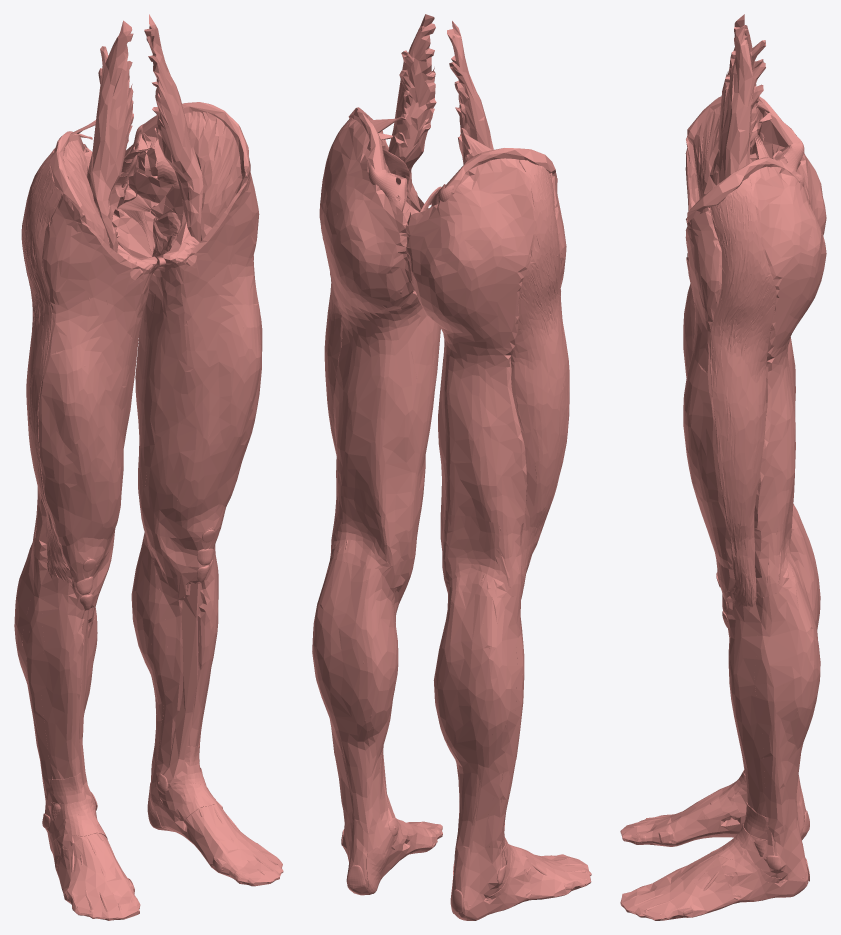
File: lower.glb
3 views of the same model, side by side, from view 1: azimuth 30°, elevation 25°; view 2: azimuth 150°, elevation 25°; view 3: azimuth 270°, elevation 25° (orthographic). The views are drawn at different scales.
Parts seen in each view (by area): view 1: Fascia lata.l, Fascia lata.r, Crural fascia.r, Crural fascia.l, Iliotibial tract.r, Psoas major.r, Psoas major.l, Iliacus muscle.l, Tibia.l, Hip bone.l, Gluteus maximus muscle.l, Iliacus muscle.r (+8 smaller); view 2: Fascia lata.r, Fascia lata.l, Crural fascia.r, Crural fascia.l, Iliotibial tract.r, Psoas major.l, Popliteal fascia.r, Popliteal fascia.l, Psoas major.r, Iliotibial tract.l, Hip bone.r, Hip bone.l (+2 smaller); view 3: Fascia lata.l, Crural fascia.l, Iliotibial tract.l, Crural fascia.r, Psoas major.l, Fascia lata.r, Iliacus muscle.r, Hip bone.r, Hip bone.l, Psoas major.r, Superior fibular retinaculum.l, Popliteal fascia.l (+3 smaller).
Part boxes in pixels (box(x1,y1,x2,y2)): Fascia lata.l: box(109, 144, 262, 542); Fascia lata.r: box(21, 148, 158, 573); Crural fascia.r: box(14, 543, 140, 920); Crural fascia.l: box(131, 517, 283, 886); Iliotibial tract.r: box(21, 151, 72, 587); Psoas major.r: box(87, 20, 133, 252); Psoas major.l: box(144, 14, 203, 242); Iliacus muscle.l: box(184, 111, 242, 241); Tibia.l: box(158, 583, 202, 792); Hip bone.l: box(142, 102, 249, 267); Gluteus maximus muscle.l: box(112, 150, 158, 258); Iliacus muscle.r: box(63, 140, 109, 246); Fascia lata.r: box(405, 158, 569, 597); Fascia lata.l: box(319, 119, 440, 566); Crural fascia.r: box(433, 580, 591, 920); Crural fascia.l: box(312, 553, 442, 895); Iliotibial tract.r: box(511, 160, 569, 598); Psoas major.l: box(388, 14, 436, 211); Popliteal fascia.r: box(445, 514, 500, 596); Popliteal fascia.l: box(333, 484, 387, 568); Psoas major.r: box(447, 21, 493, 164); Iliotibial tract.l: box(319, 117, 353, 455); Hip bone.r: box(445, 148, 556, 194); Hip bone.l: box(348, 107, 419, 214); Fascia lata.l: box(683, 166, 826, 597); Crural fascia.l: box(620, 570, 820, 920); Iliotibial tract.l: box(710, 177, 776, 610); Crural fascia.r: box(620, 512, 820, 846); Psoas major.l: box(718, 27, 765, 183); Fascia lata.r: box(683, 134, 826, 416); Iliacus muscle.r: box(693, 105, 762, 199); Hip bone.r: box(687, 96, 803, 159); Hip bone.l: box(687, 157, 800, 224); Psoas major.r: box(703, 14, 765, 195); Superior fibular retinaculum.l: box(717, 833, 783, 883); Popliteal fascia.l: box(781, 497, 798, 584).
Bounding box in the file's own units: 0.3223 × 1.15 × 0.2521.
